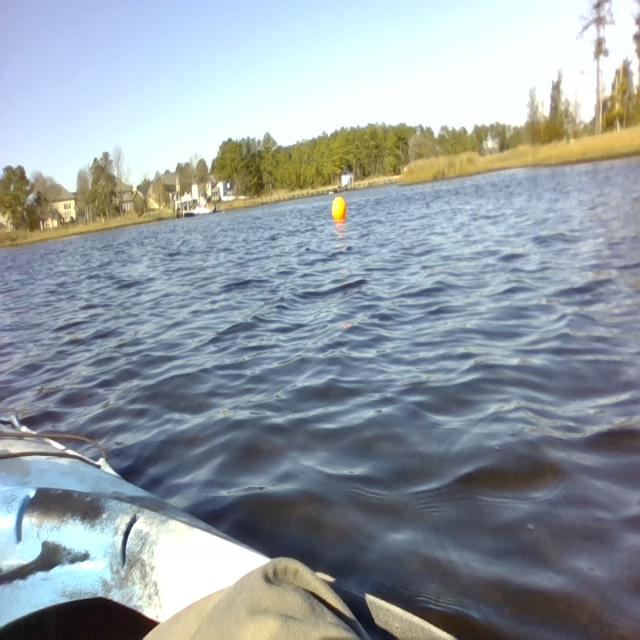Buoy: (329, 193, 348, 226)
